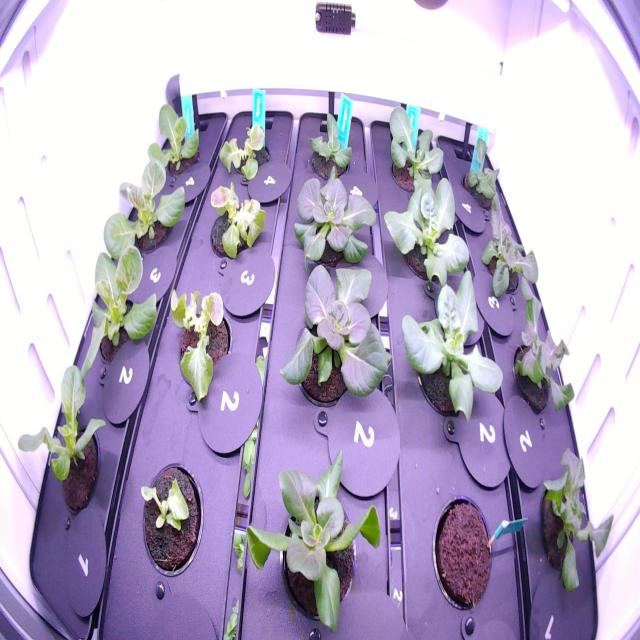pod: (426, 484, 501, 620)
young: (239, 439, 392, 639), (392, 261, 508, 445), (274, 252, 399, 416), (9, 356, 114, 528), (68, 237, 166, 403), (534, 441, 620, 603), (379, 158, 477, 300), (92, 148, 192, 268), (287, 157, 382, 278), (505, 293, 583, 425), (163, 280, 235, 418), (134, 455, 208, 587), (476, 188, 543, 308), (378, 99, 454, 202), (141, 90, 210, 190), (207, 176, 271, 280), (298, 104, 362, 189), (216, 114, 275, 189), (458, 134, 510, 215)
